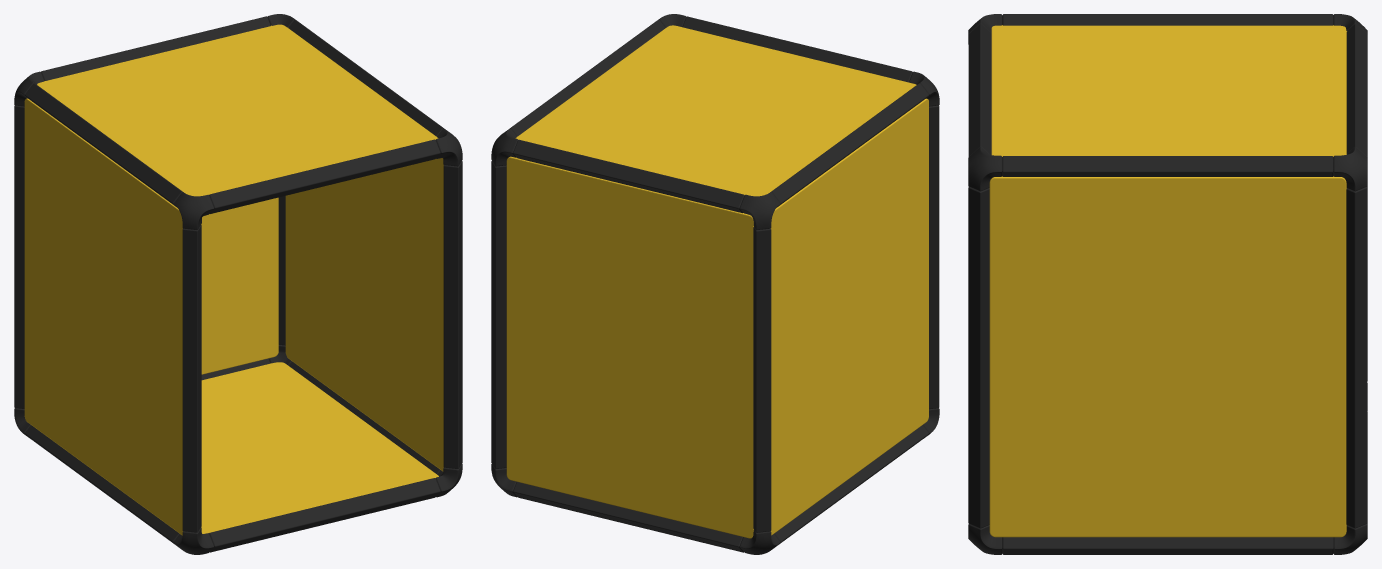
3 views of the same model, side by side, from view 1: azimuth 30°, elevation 25°; view 2: azimuth 150°, elevation 25°; view 3: azimuth 270°, elevation 25° (orthographic). The views are drawn at different scales.
Parts seen in each view (by area): view 1: 329x374x420; view 2: 329x374x420; view 3: 329x374x420.
Boxes of the visible parts, bbox=[...] form: 329x374x420: bbox=[14, 14, 462, 554]; 329x374x420: bbox=[491, 14, 939, 554]; 329x374x420: bbox=[968, 14, 1367, 554].
Bounding box in the file's own units: 0.4067 × 0.4976 × 0.4513.
